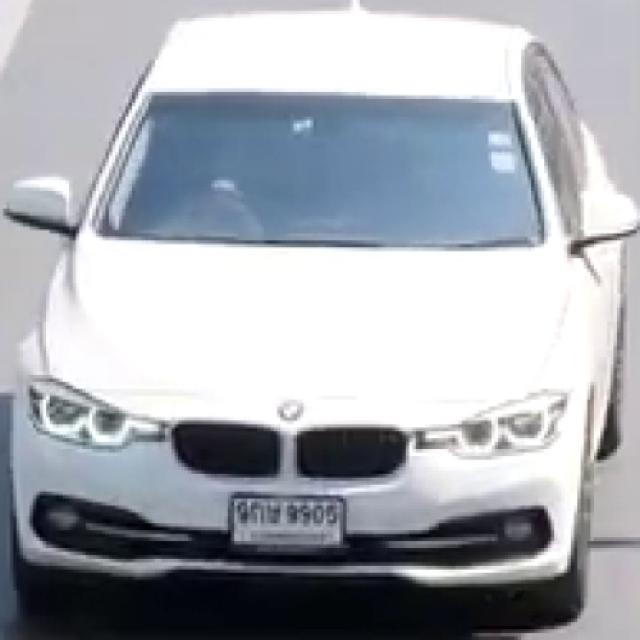plate: (230, 492, 348, 552)
